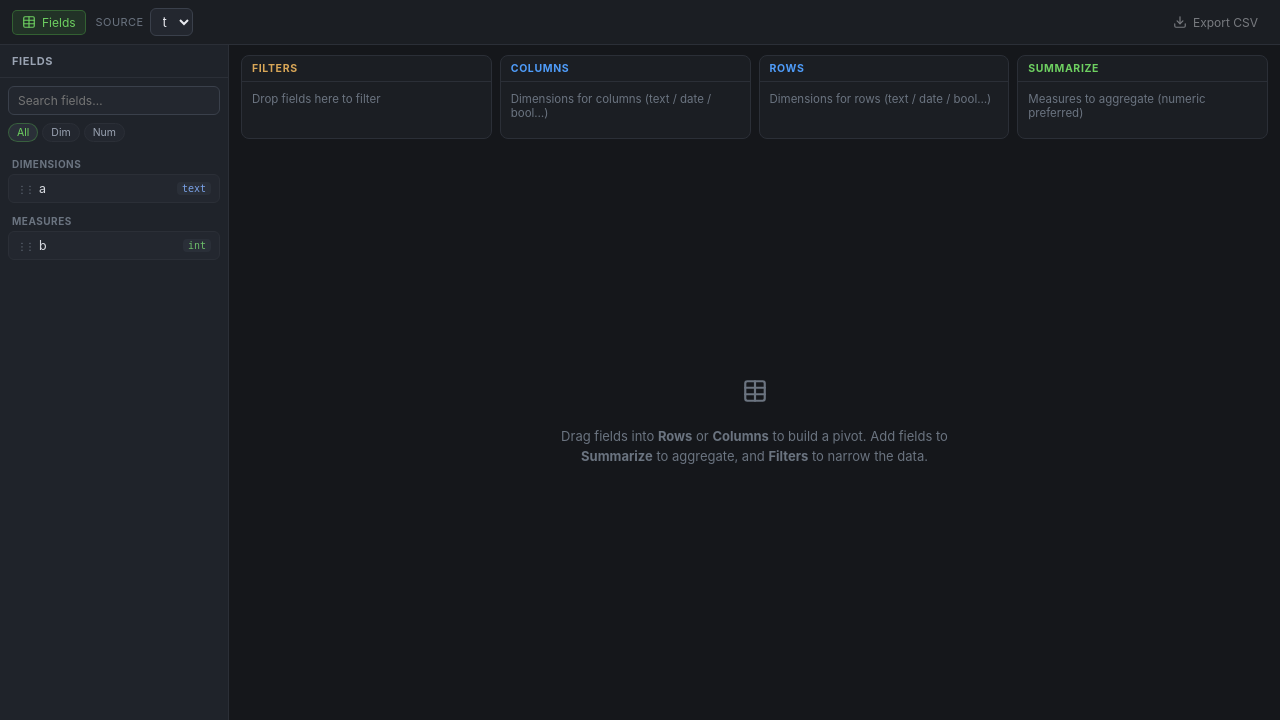
it: PivotPanel typed field drawer › role filter still lists every matching field (does not hard-hide)
Click the button titled "Show measures" at point(104, 132), box [84,123,125,142]
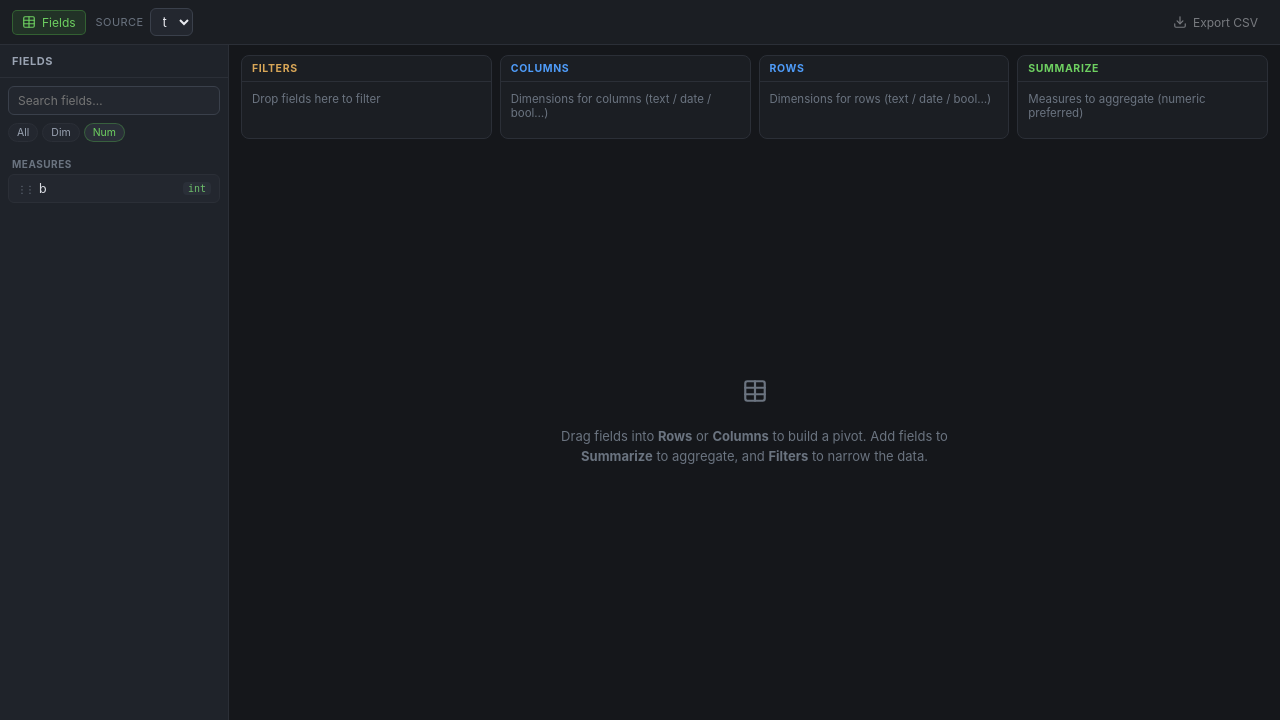
Expected: the text "b" is shown, [39,181,47,196]
Click the button titled "Show every field" at point(23, 132), box [8,123,38,142]
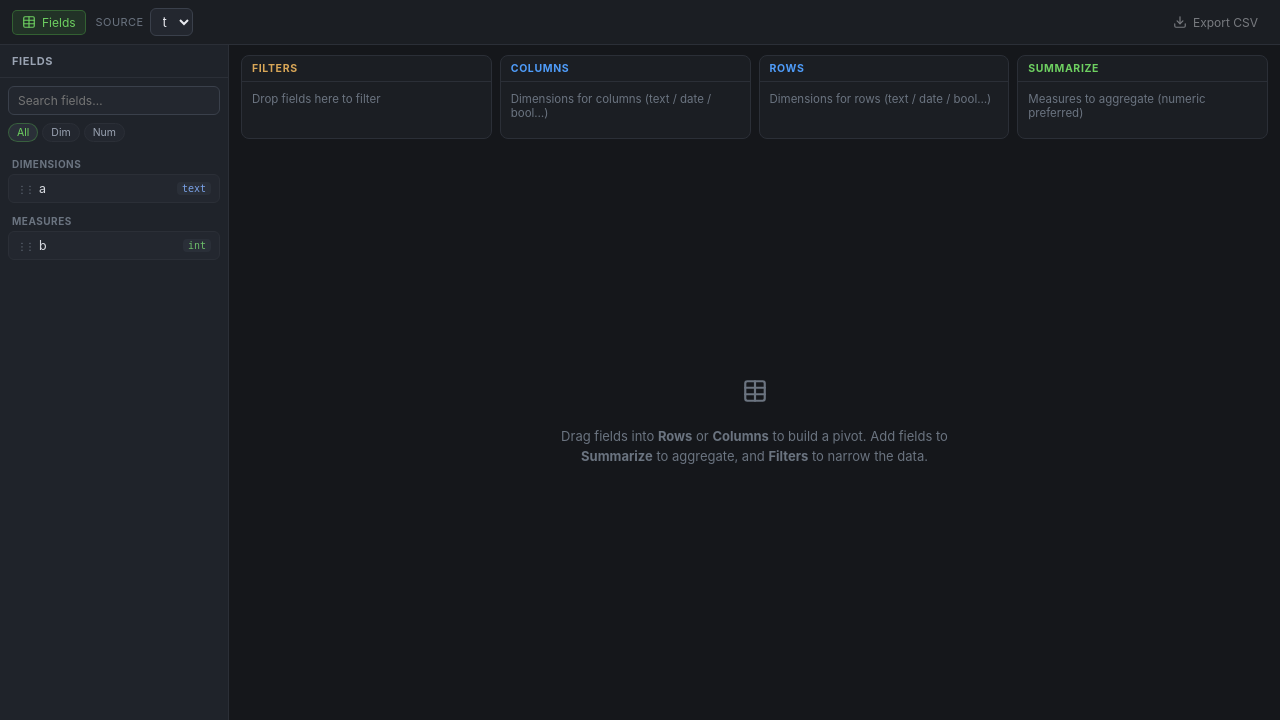
Expected: the text "b" is shown, [39,238,47,253]
Result: the text "a" is shown at [39,181,46,196]
